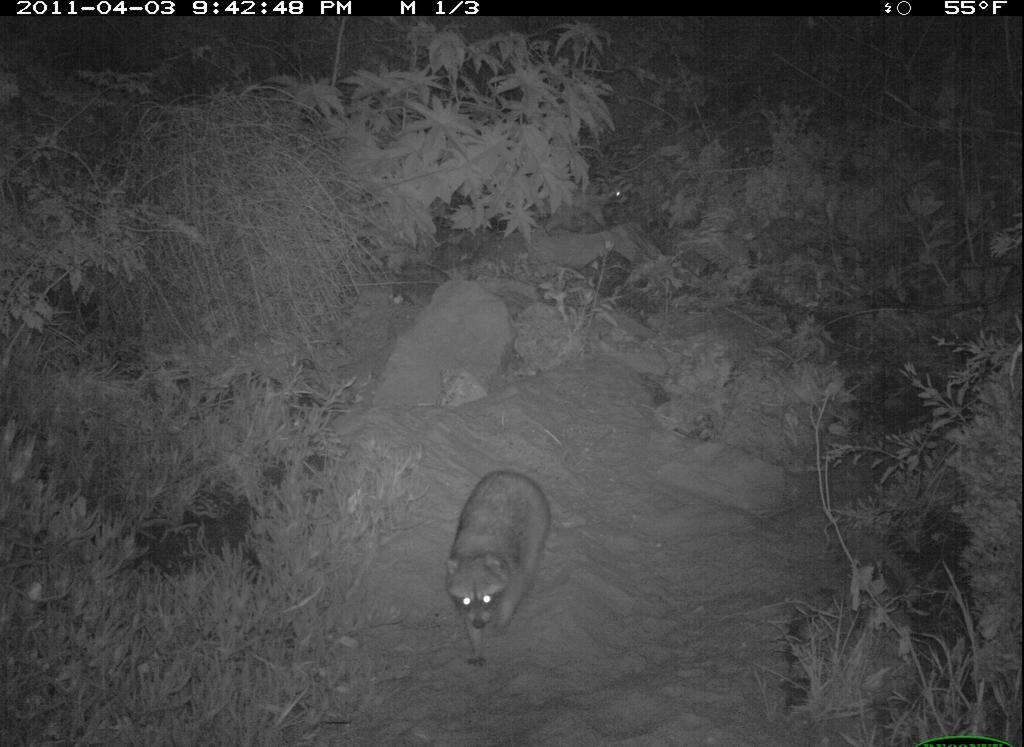raccoon: (440, 461, 556, 671)
